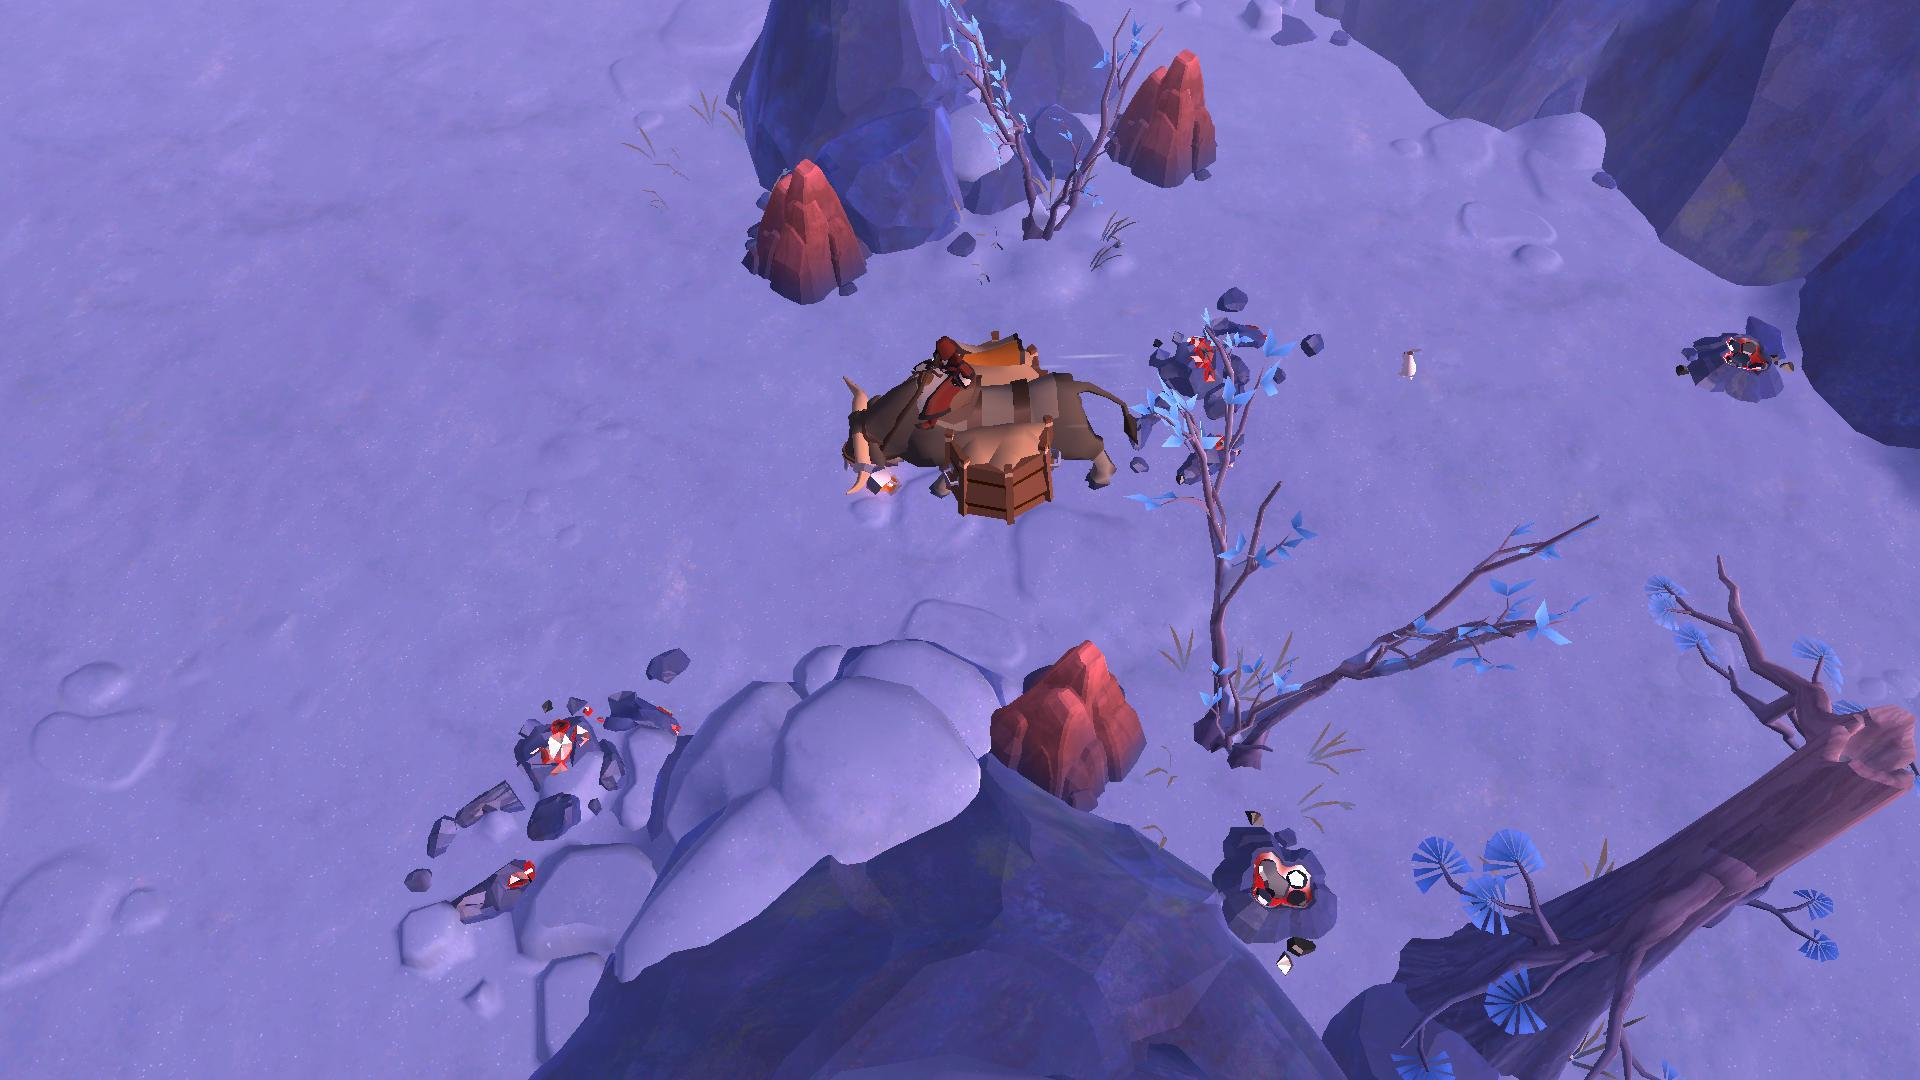rock_t5: (978, 641, 1149, 808), (742, 160, 865, 315), (1110, 41, 1229, 189)
